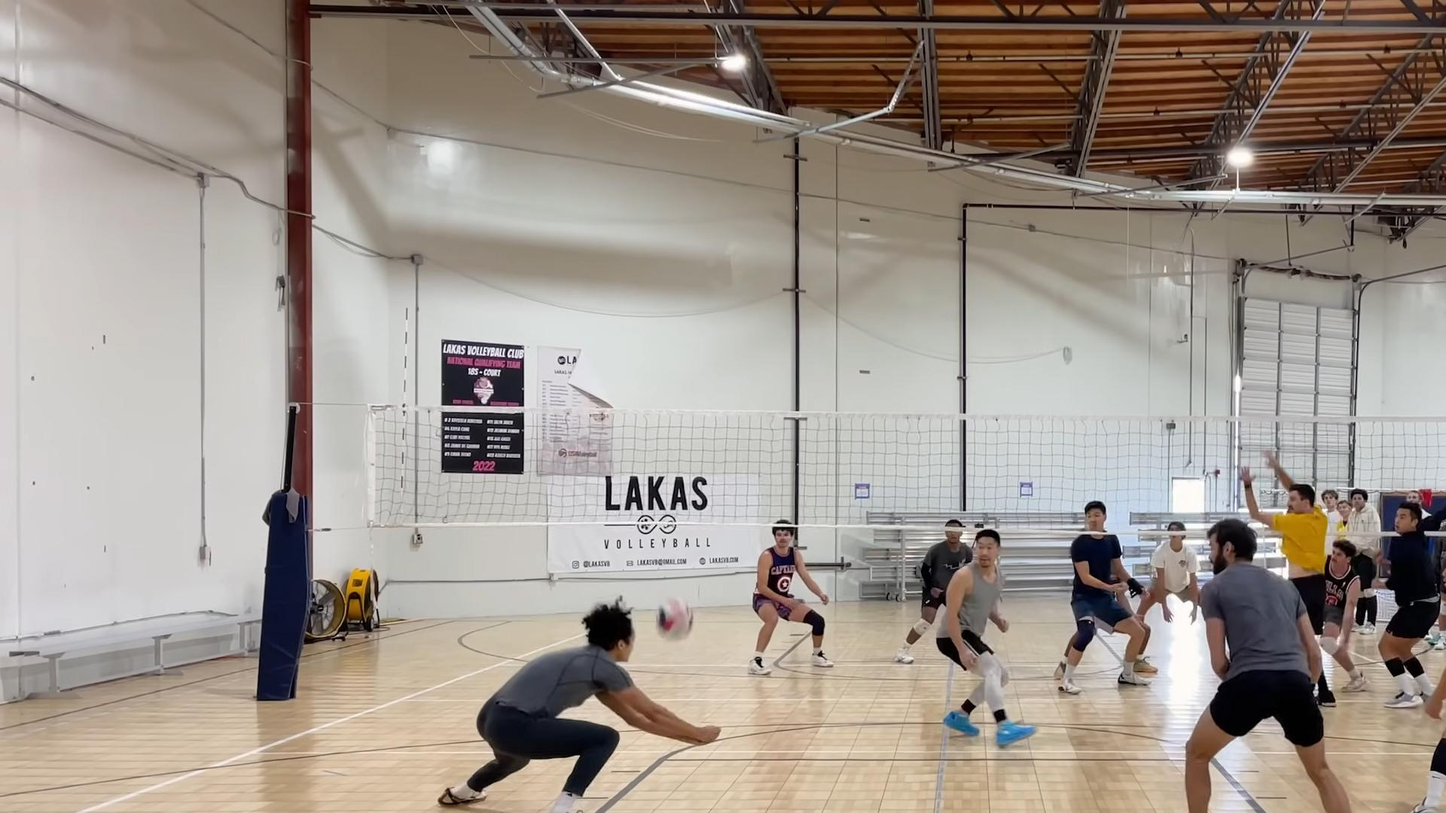difesa: (435, 596, 720, 813)
